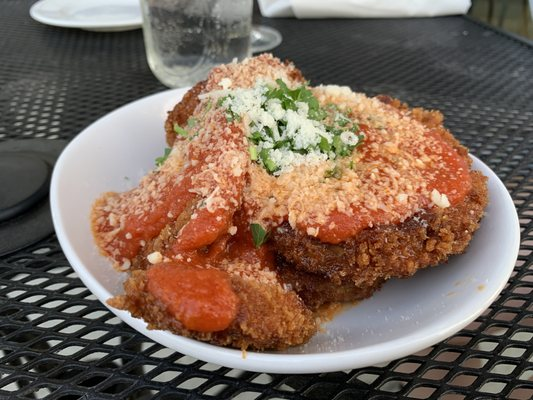pizza: (140, 0, 255, 88)
soup: (86, 54, 489, 351)
